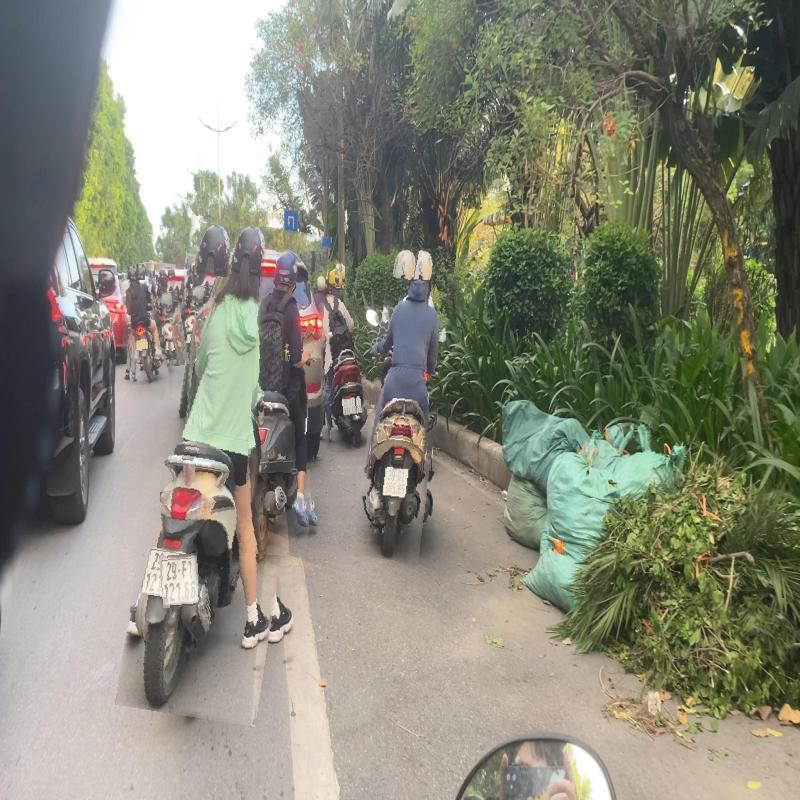helmet: (195, 223, 234, 276), (265, 252, 290, 290), (393, 248, 418, 280), (328, 266, 345, 290), (135, 264, 146, 280), (167, 269, 175, 278)
licenseplate: (160, 554, 200, 607), (395, 467, 418, 498), (342, 395, 358, 416), (136, 339, 146, 350)
motorcyclist: (134, 219, 314, 723), (362, 246, 447, 562), (246, 250, 324, 556), (314, 267, 370, 451), (122, 262, 166, 387), (160, 267, 186, 366)
